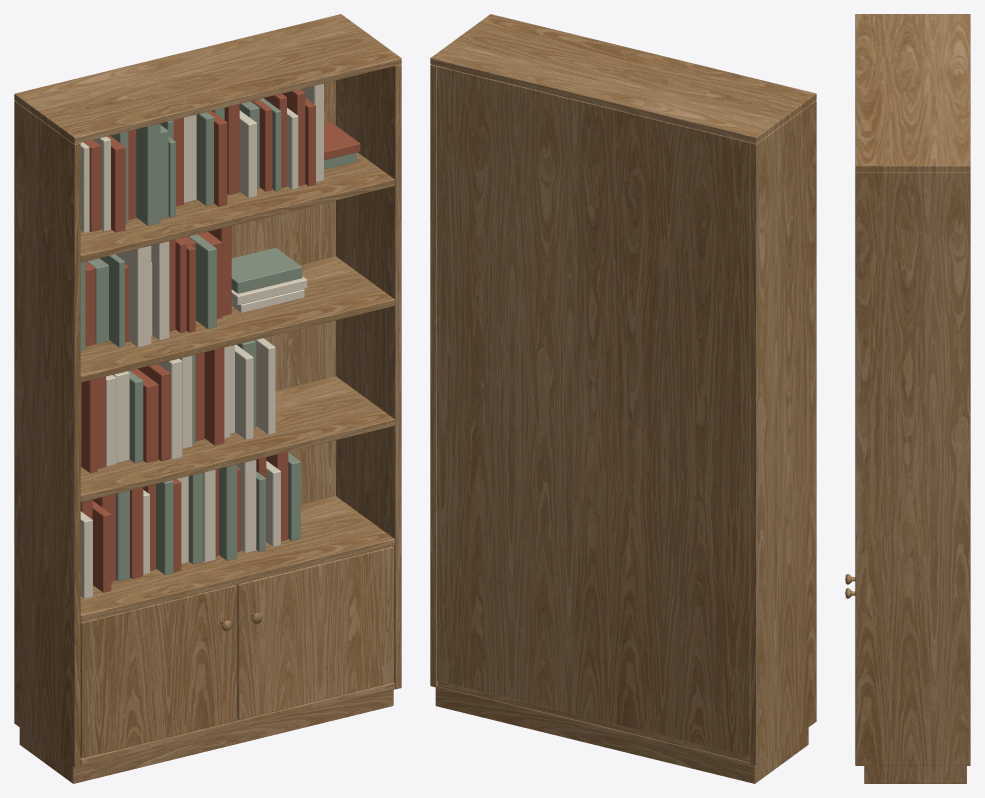
The model's file is libreria_alta_roble_100.glb.
3 views of the same model, side by side, from view 1: azimuth 30°, elevation 25°; view 2: azimuth 150°, elevation 25°; view 3: azimuth 270°, elevation 25° (orthographic). The views are drawn at different scales.
Visible parts, largest first — view 1: libreria_alta_roble_100; view 2: libreria_alta_roble_100; view 3: libreria_alta_roble_100.
Boxes of the visible parts, x1,y1,x2,y2 form: libreria_alta_roble_100: (14,14,401,783); libreria_alta_roble_100: (430,14,816,783); libreria_alta_roble_100: (845,14,970,783).
Size of the model in its own units: 1 by 1.9 by 0.3479.
4 materials, 1 textured.
